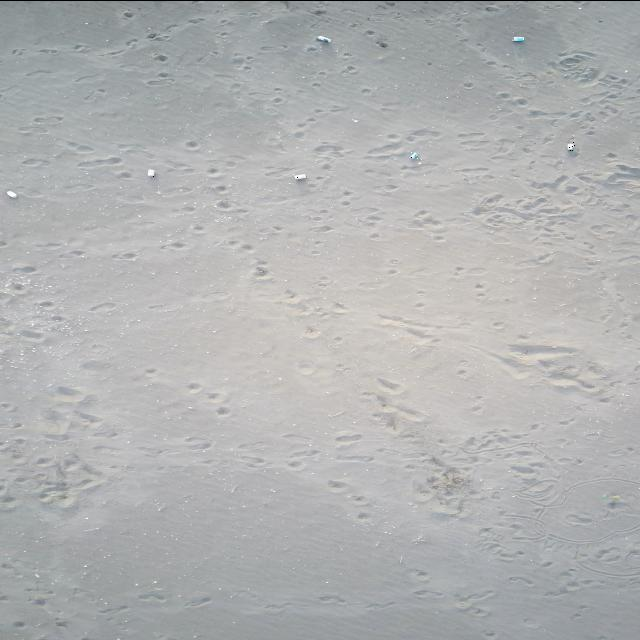Garbage: (316, 35, 331, 43), (409, 151, 420, 160), (567, 140, 575, 151), (512, 35, 524, 42), (293, 173, 306, 179), (6, 191, 16, 198), (147, 168, 154, 176)
